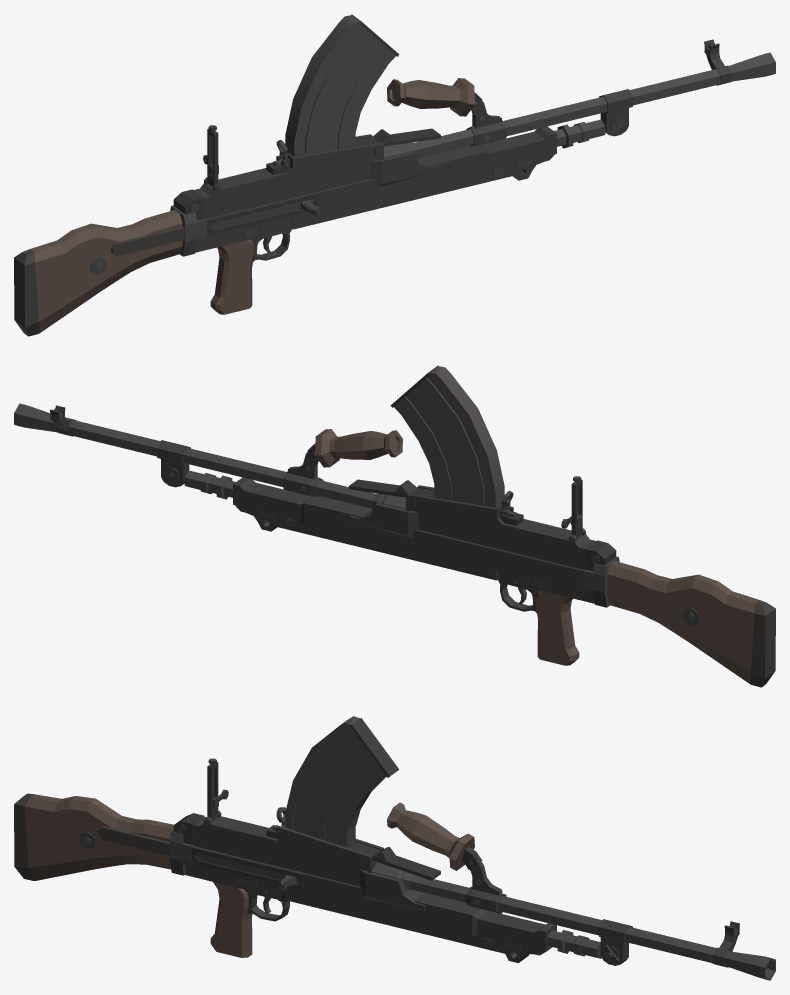
Rendered from bren.glb.
3 renders of one model, top to bottom at view 1: azimuth 30°, elevation 25°; view 2: azimuth 150°, elevation 25°; view 3: azimuth 330°, elevation 25°, orthographic.
Visible parts, largest first — view 1: Cube, Cube.004, Cube.020, Cylinder, Cylinder.001, Cube.008, Cube.021, Cube.001, Cube.024, Cube.023, Cube.003, Cube.025 (+4 smaller); view 2: Cube, Cube.020, Cube.004, Cylinder, Cylinder.001, Cube.008, Cube.021, Cube.001, Cube.003, Cube.019, Cylinder.020, Cube.026 (+1 smaller); view 3: Cube, Cube.020, Cube.004, Cylinder, Cylinder.001, Cube.008, Cube.001, Cube.024, Cube.003, Cube.021, Cube.023, Cube.005 (+7 smaller).
Boxes of the visible parts, <box> form: Cube: <box>194,126,556,252</box>; Cube.004: <box>285,15,395,156</box>; Cube.020: <box>30,210,182,333</box>; Cylinder: <box>384,52,775,158</box>; Cylinder.001: <box>387,78,506,146</box>; Cube.008: <box>210,239,253,314</box>; Cube.021: <box>14,249,39,336</box>; Cube.001: <box>371,150,440,187</box>; Cube.024: <box>207,193,317,236</box>; Cube.023: <box>111,227,184,256</box>; Cube.003: <box>355,128,440,146</box>; Cube.025: <box>210,199,320,230</box>; Cube: <box>233,477,595,603</box>; Cube.020: <box>607,561,759,684</box>; Cube.004: <box>394,366,504,507</box>; Cylinder: <box>14,403,405,509</box>; Cylinder.001: <box>283,429,402,497</box>; Cube.008: <box>536,590,579,665</box>; Cube.021: <box>750,600,775,687</box>; Cube.001: <box>349,501,418,538</box>; Cube.003: <box>349,479,434,497</box>; Cube.019: <box>583,556,619,607</box>; Cylinder.020: <box>571,476,582,537</box>; Cube.026: <box>585,540,616,571</box>; Cube: <box>182,810,556,963</box>; Cube.020: <box>24,794,173,880</box>; Cube.004: <box>285,716,386,848</box>; Cylinder: <box>371,862,775,980</box>; Cylinder.001: <box>387,802,506,913</box>; Cube.008: <box>210,882,252,957</box>; Cube.001: <box>359,869,425,910</box>; Cube.024: <box>191,847,302,889</box>; Cube.003: <box>349,842,440,880</box>; Cube.021: <box>14,793,34,880</box>; Cube.023: <box>98,826,169,855</box>; Cube.005: <box>350,718,399,777</box>.
Size of the model in its own units: 1.23 by 0.409 by 0.0914.
